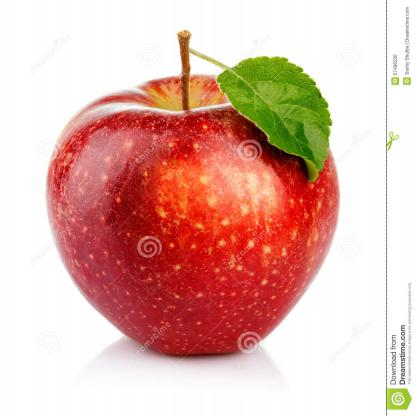apple leaf: (211, 51, 347, 179)
